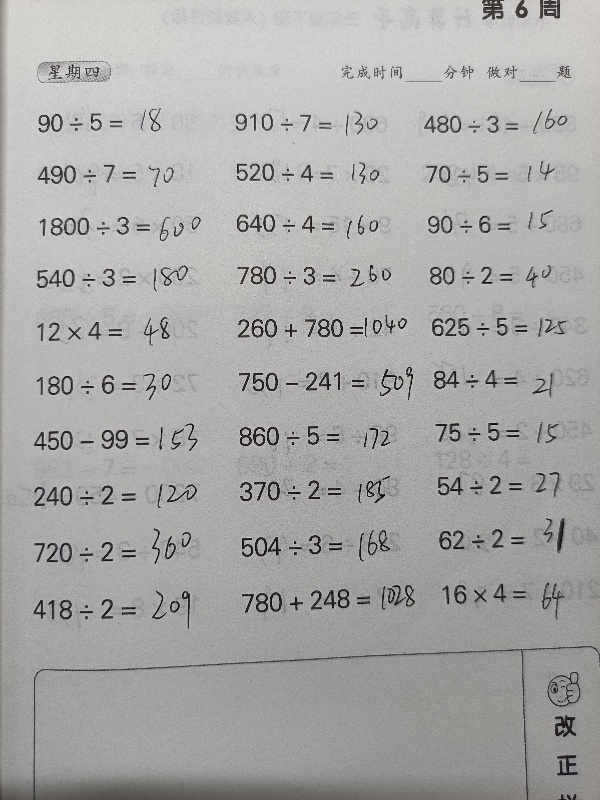equation: (25, 522, 214, 569), (232, 525, 412, 572), (26, 416, 206, 459), (29, 366, 209, 408), (32, 209, 212, 250), (236, 578, 423, 617), (227, 207, 407, 246), (422, 309, 589, 351), (420, 258, 595, 297), (232, 472, 412, 509), (429, 512, 583, 555), (235, 308, 408, 346), (24, 591, 204, 627), (26, 478, 206, 514), (424, 362, 582, 403), (230, 418, 410, 453), (229, 364, 409, 399), (27, 260, 207, 295), (229, 257, 409, 292), (29, 104, 209, 139), (433, 576, 586, 617), (29, 314, 209, 348), (28, 157, 208, 191), (227, 155, 407, 189), (418, 158, 598, 191), (416, 108, 596, 141), (227, 106, 407, 139), (419, 208, 592, 242), (427, 415, 585, 451), (428, 468, 580, 499)
